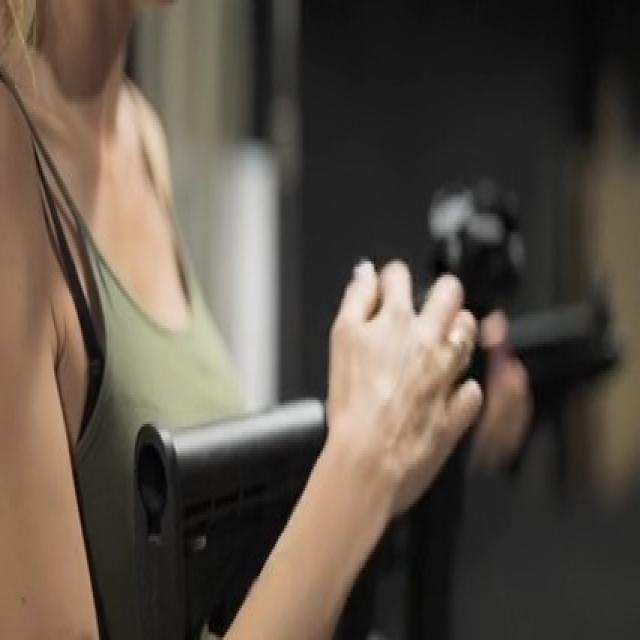Gun_Holder: (128, 172, 640, 640)
